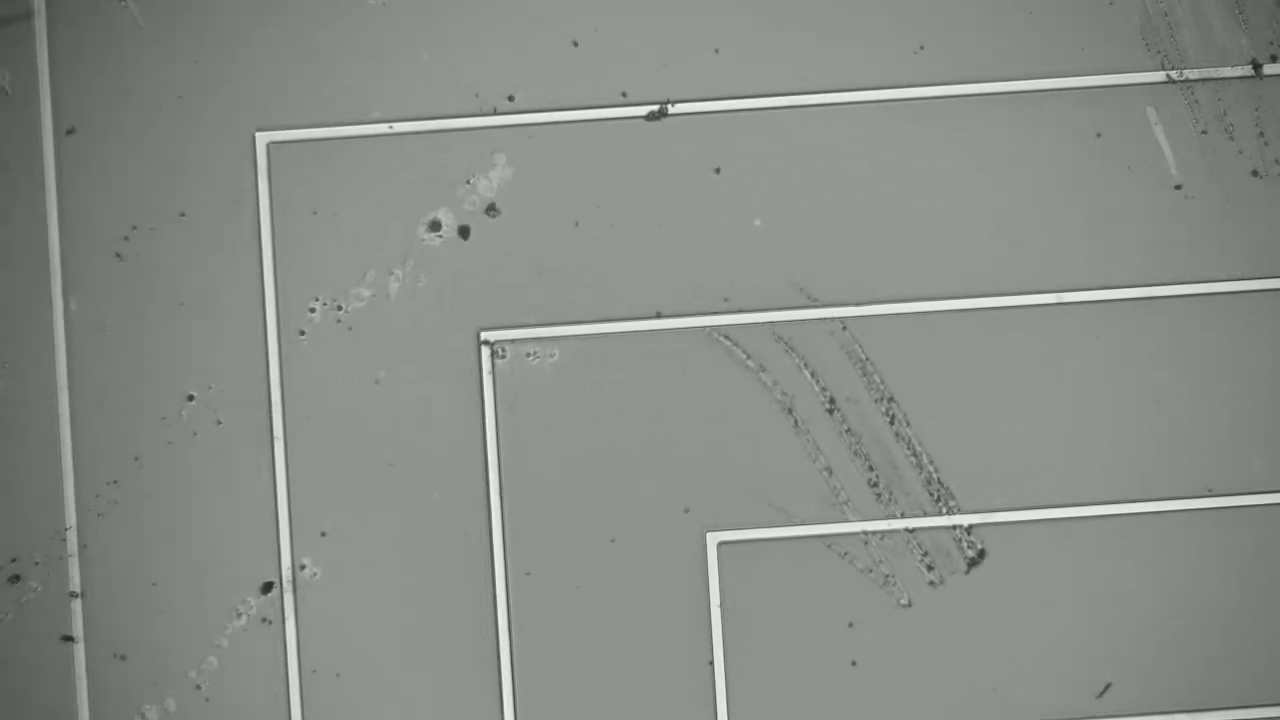scratch: (729, 293, 1001, 621)
stains_enbedded: (639, 94, 685, 130), (1245, 53, 1269, 85)
